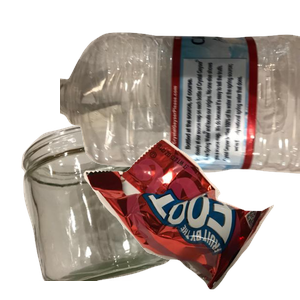glass: (19, 120, 184, 300)
metal: (80, 68, 284, 248)
plastic: (60, 30, 300, 196)
trash: (81, 136, 300, 300)
